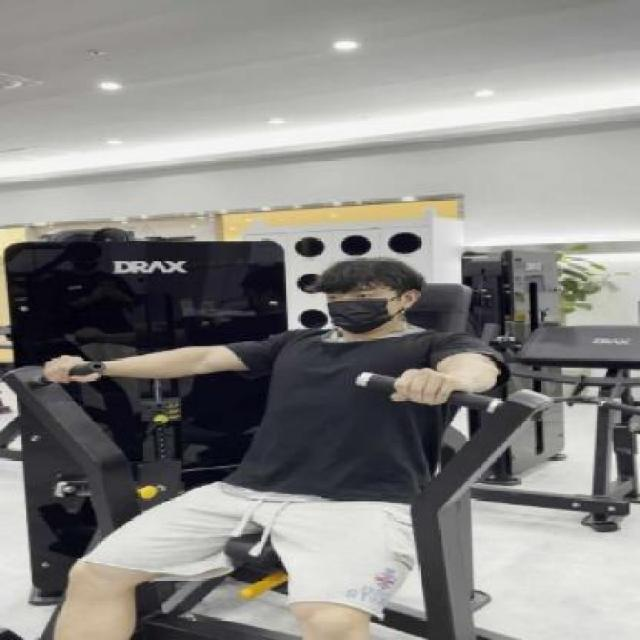Chest Press machine: (12, 220, 640, 638)
